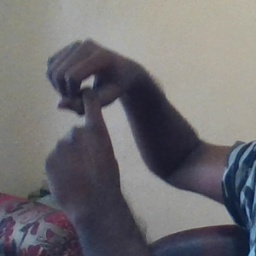Q: (37, 34, 130, 183)
